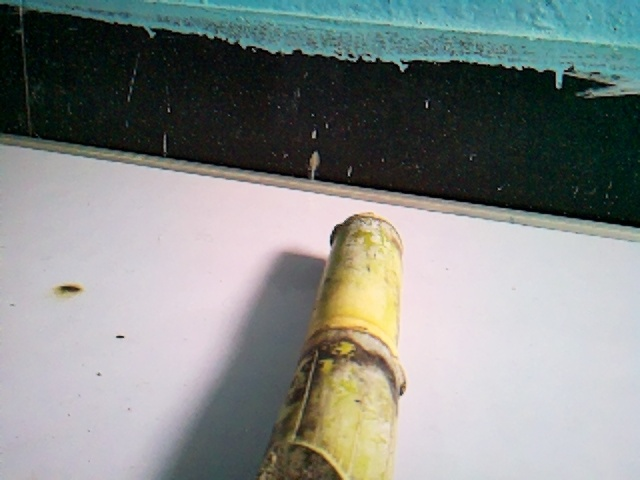Good Sugarcane: (258, 213, 405, 476)
Node: (282, 325, 408, 404)
